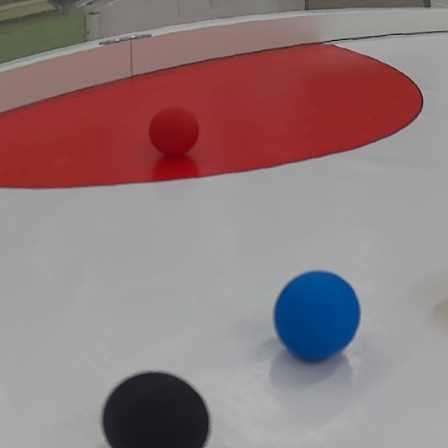black: (99, 365, 213, 448)
blue: (271, 271, 361, 361)
red: (146, 104, 203, 156)
red_base: (1, 41, 425, 194)
